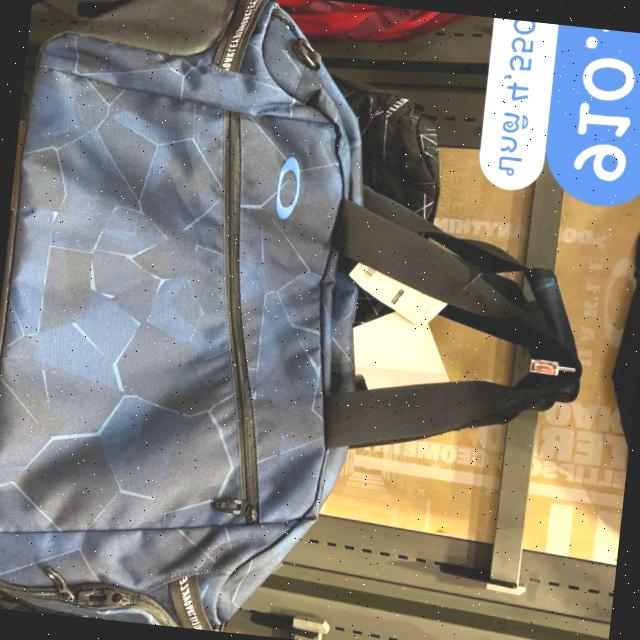Handbag: (0, 0, 408, 640)
